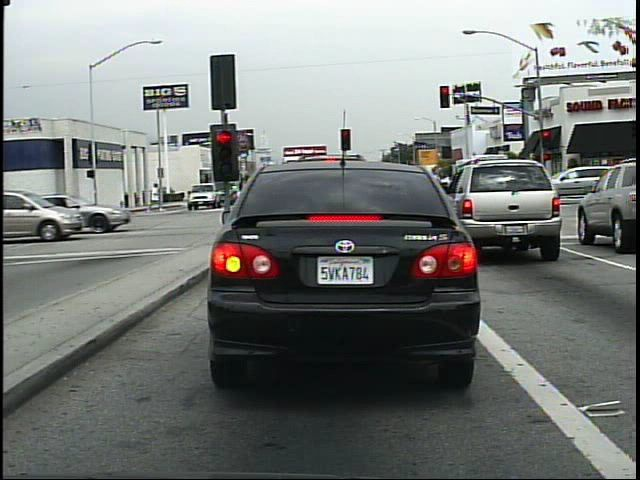person: (145, 180, 165, 217)
